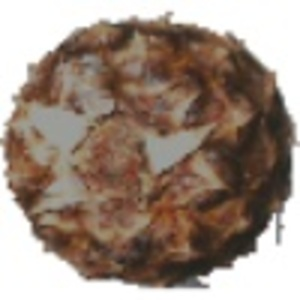abacaxi: (5, 13, 292, 283)
